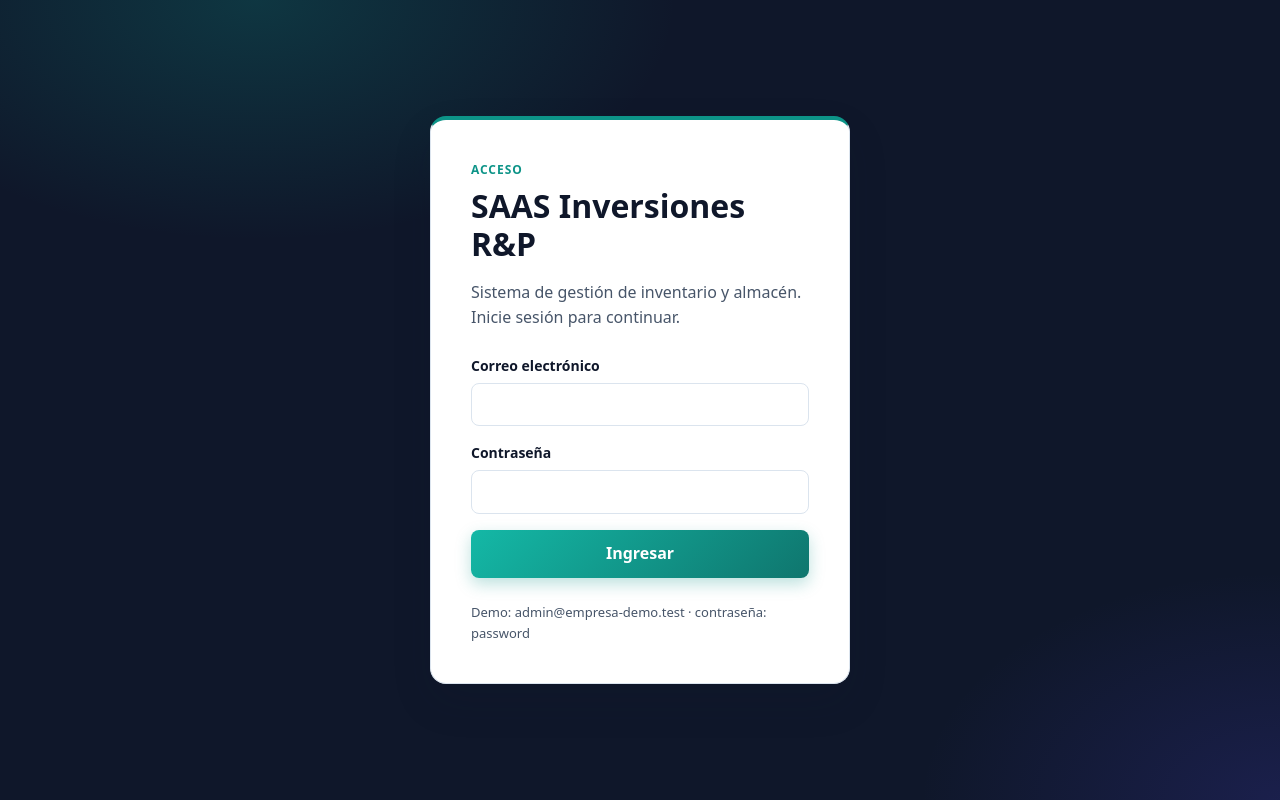
Test: App › inicia sesión y muestra el nombre del usuario
Expected: the heading "SAAS Inversiones R&P" is shown, [471, 184, 745, 265]
Type "admin@empresa-demo.test" into the field labelled "Correo electrónico". click: coordinates (640, 404)
box: [471, 383, 809, 426]
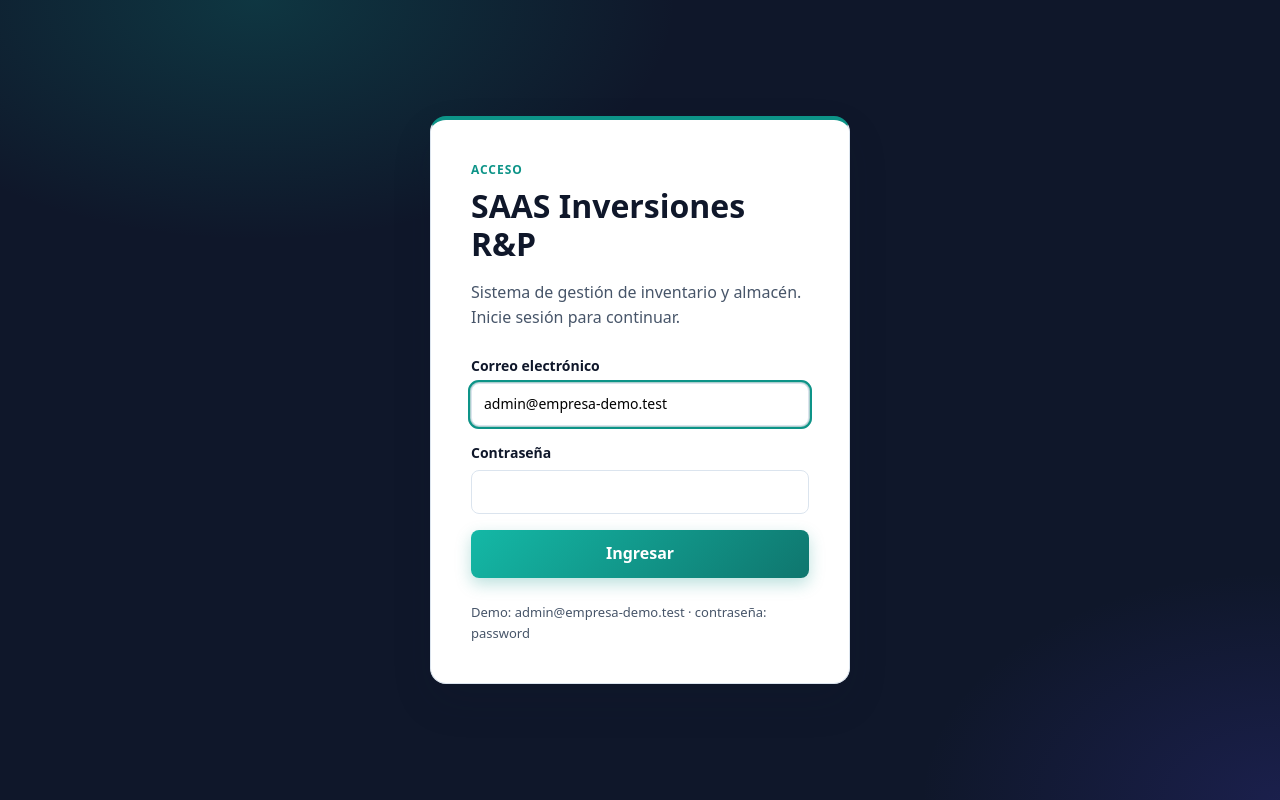
Type "password" into the password field labelled "Contraseña". click: coordinates (640, 492)
box: [471, 470, 809, 514]
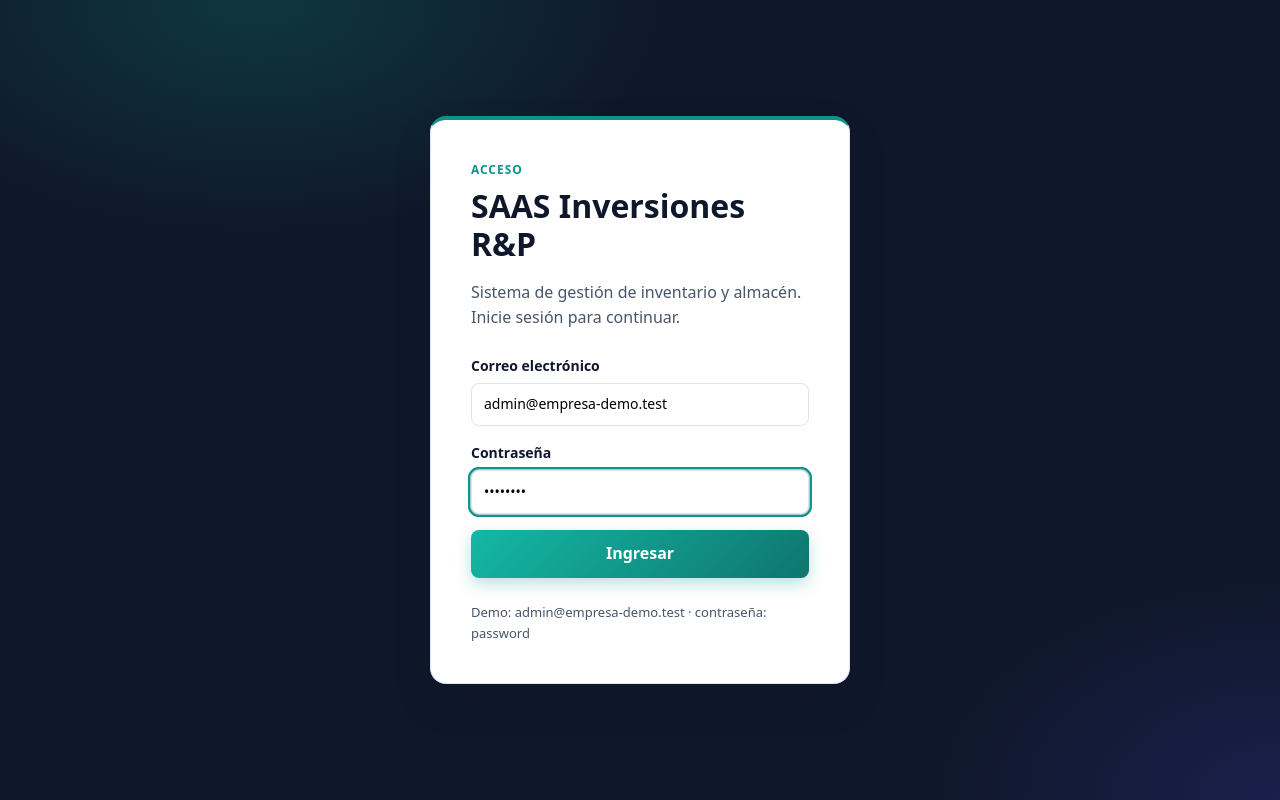
Click the button "Ingresar". click: coordinates (640, 554)
box: [471, 530, 809, 578]
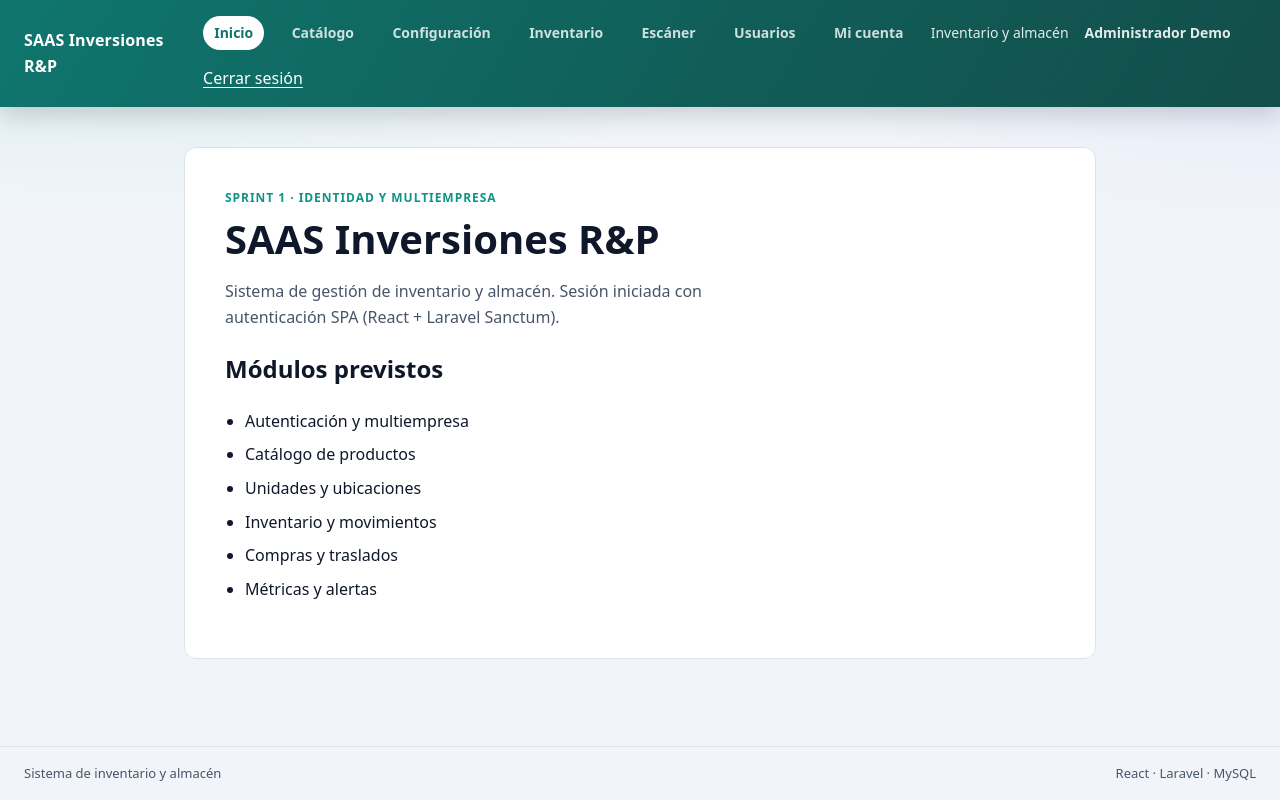
Expected: the text "Administrador Demo" is shown, [1085, 22, 1231, 44]
Expected: the link "Catálogo" is shown, [292, 23, 354, 42]
Expected: the link "Configuración" is shown, [392, 23, 491, 42]
